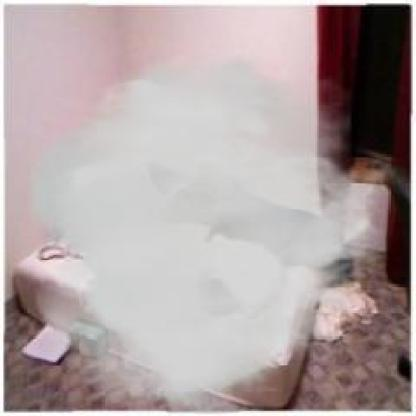Smoke: (28, 50, 397, 414)
